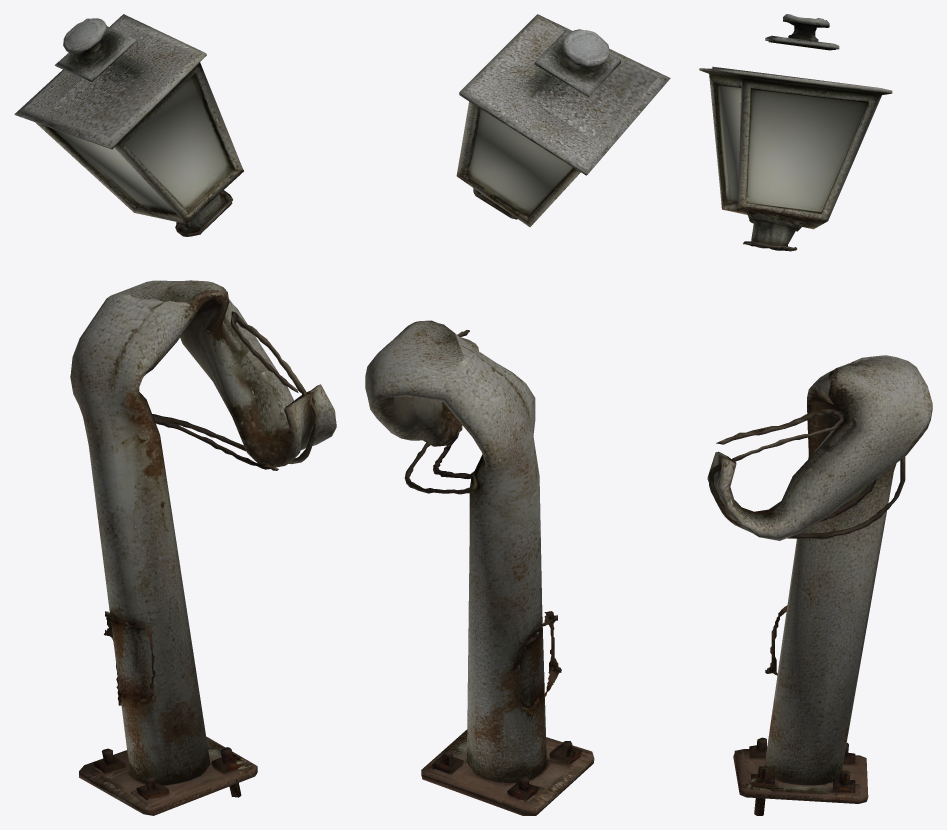
The model's file is 019e8f7c-3923-7119-8a50-fdac904d5dfc.glb.
3 renders of one model, left to right at view 1: azimuth 30°, elevation 25°; view 2: azimuth 150°, elevation 25°; view 3: azimuth 270°, elevation 25°, orthographic. The views are drawn at different scales.
Visible parts, largest first — view 1: tripo_node_4363036a-7627-4c3d-8bf9-460a91e07a56; view 2: tripo_node_4363036a-7627-4c3d-8bf9-460a91e07a56; view 3: tripo_node_4363036a-7627-4c3d-8bf9-460a91e07a56.
Boxes of the visible parts, x1,y1,x2,y2 form: tripo_node_4363036a-7627-4c3d-8bf9-460a91e07a56: (14,14,336,815); tripo_node_4363036a-7627-4c3d-8bf9-460a91e07a56: (365,14,670,815); tripo_node_4363036a-7627-4c3d-8bf9-460a91e07a56: (699,14,932,815).
Bounding box in the file's own units: 0.334 × 0.998 × 0.2832.
1 material, 1 textured.
